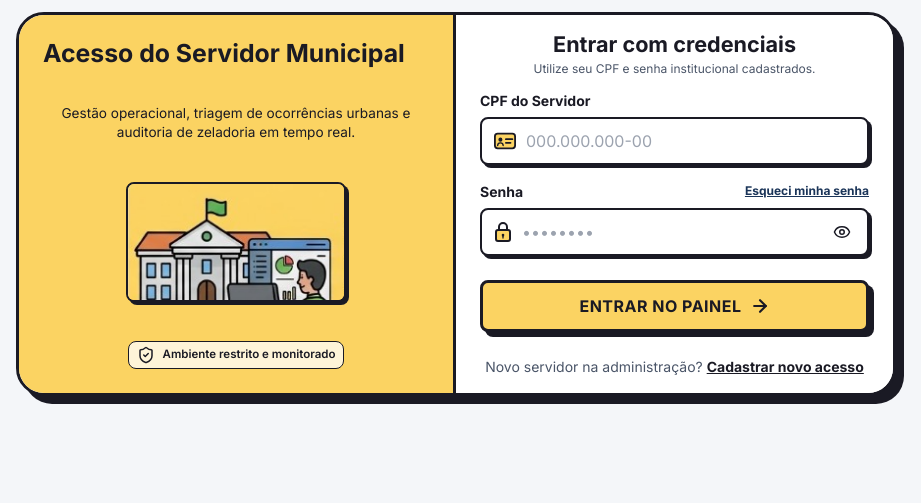
Test: Página LoginPrefeitura (/login/prefeitura) › deve exibir erro da API caso o usuário não seja servidor (403)
Step 1. Type "11122233344" into the field labelled "CPF do Servidor" → (690, 141), box [526,119,855,163]
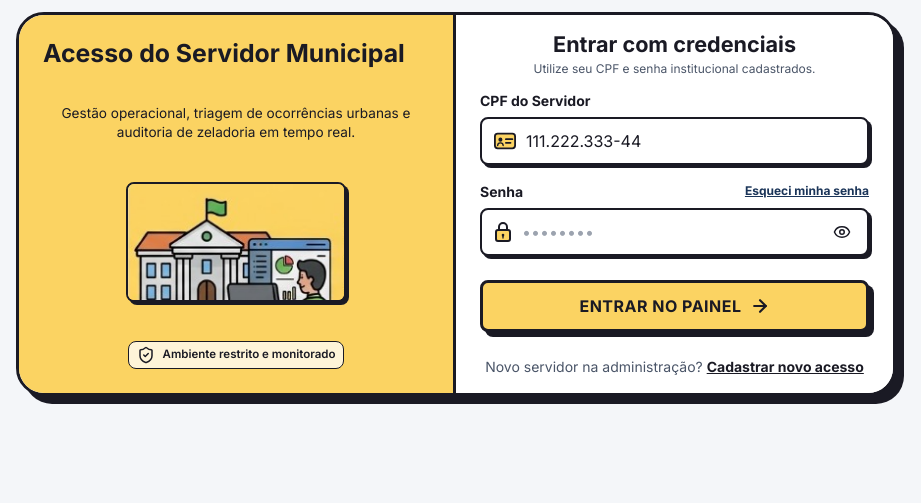
Step 2. Type "senhaForte123" into the password field labelled "Senha" → (676, 232), box [522,210,829,254]
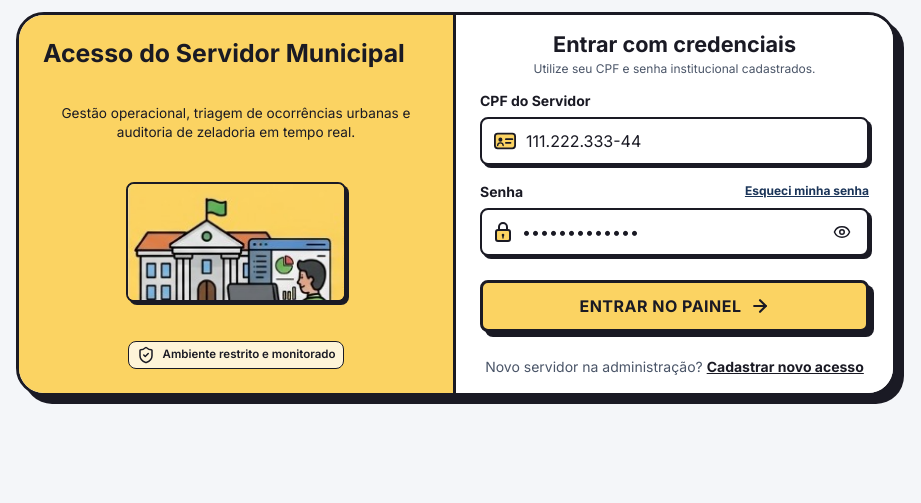
Step 3. Click the button with aria-label "Acessar o painel da prefeitura" → click(674, 306), box [480,280,869,332]
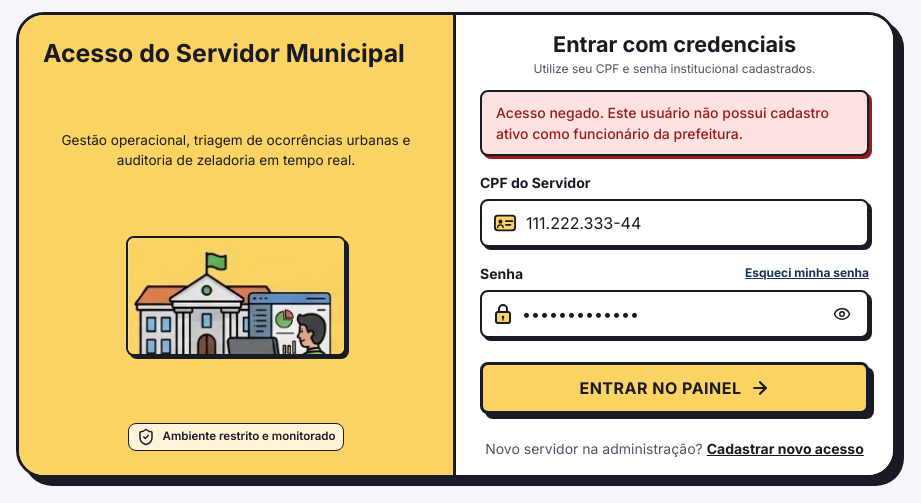
Now the text "não possui cadastro ativo como funcionário" is shown, box [496,104,829,142]
